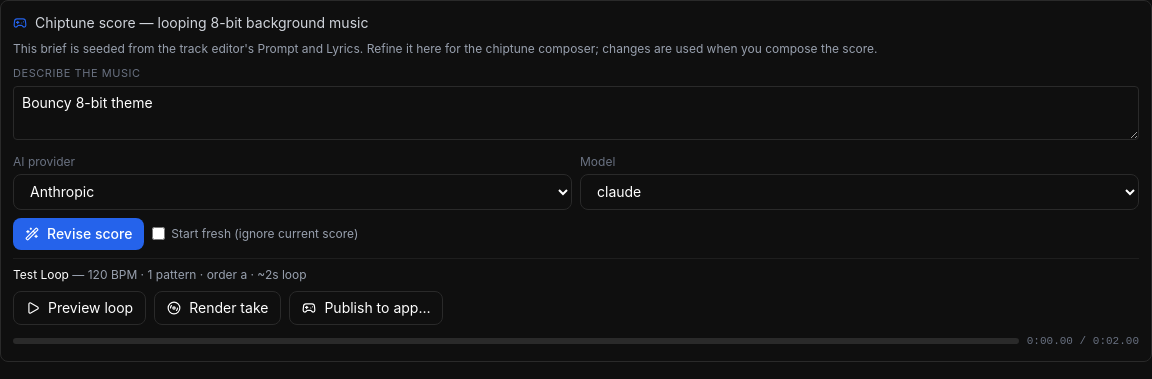
Test case: ChiptunePanel › preview progress bar › reads the total off the sounding schedule, not a score regenerated mid-preview
This screenshot has width=1152, height=379.
expect the text with test id "chiptune-progress-total" reads "0:02.00": met, box [1093,334,1139,346]
Click the button "Preview loop" at (80, 308), box [13,290,146,324]
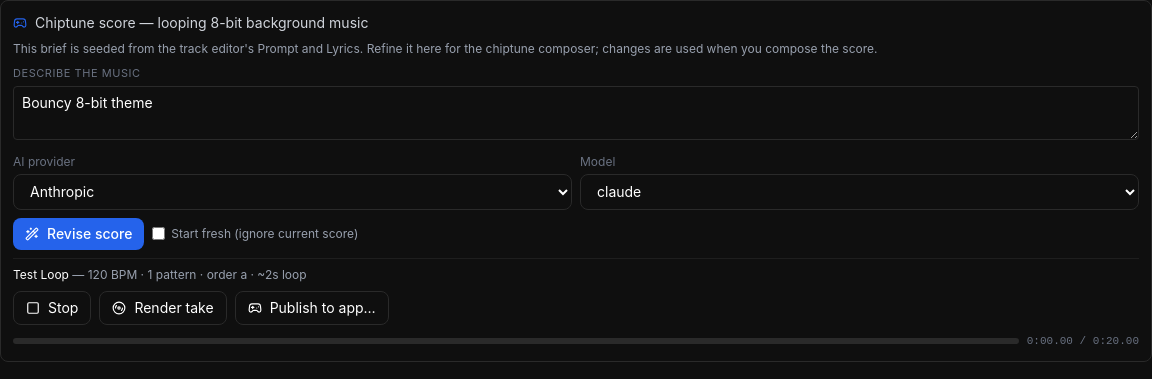
expect the button "Stop" is shown: met
expect the text with test id "chiptune-progress-total" reads "0:20.00": met, box [1093,334,1139,346]
Click the button "Stop" at (52, 308), box [13,290,91,324]
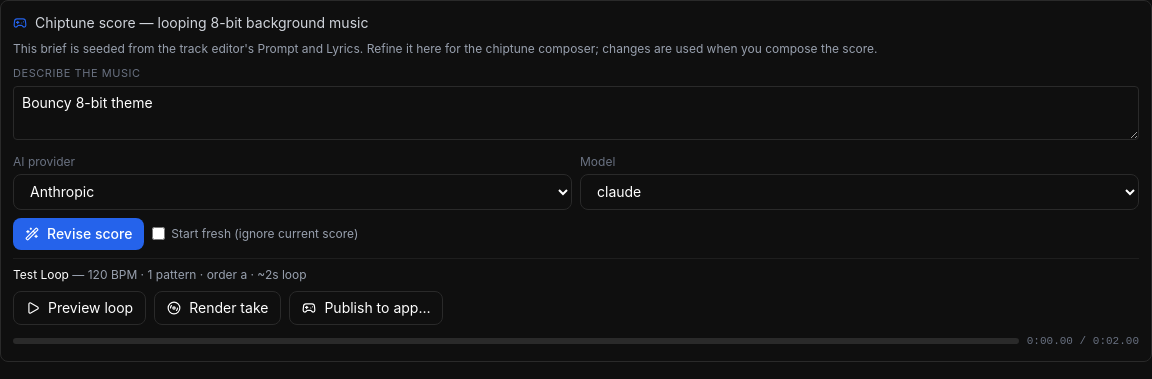
expect the text with test id "chiptune-progress-total" reads "0:02.00": met, box [1093,334,1139,346]
